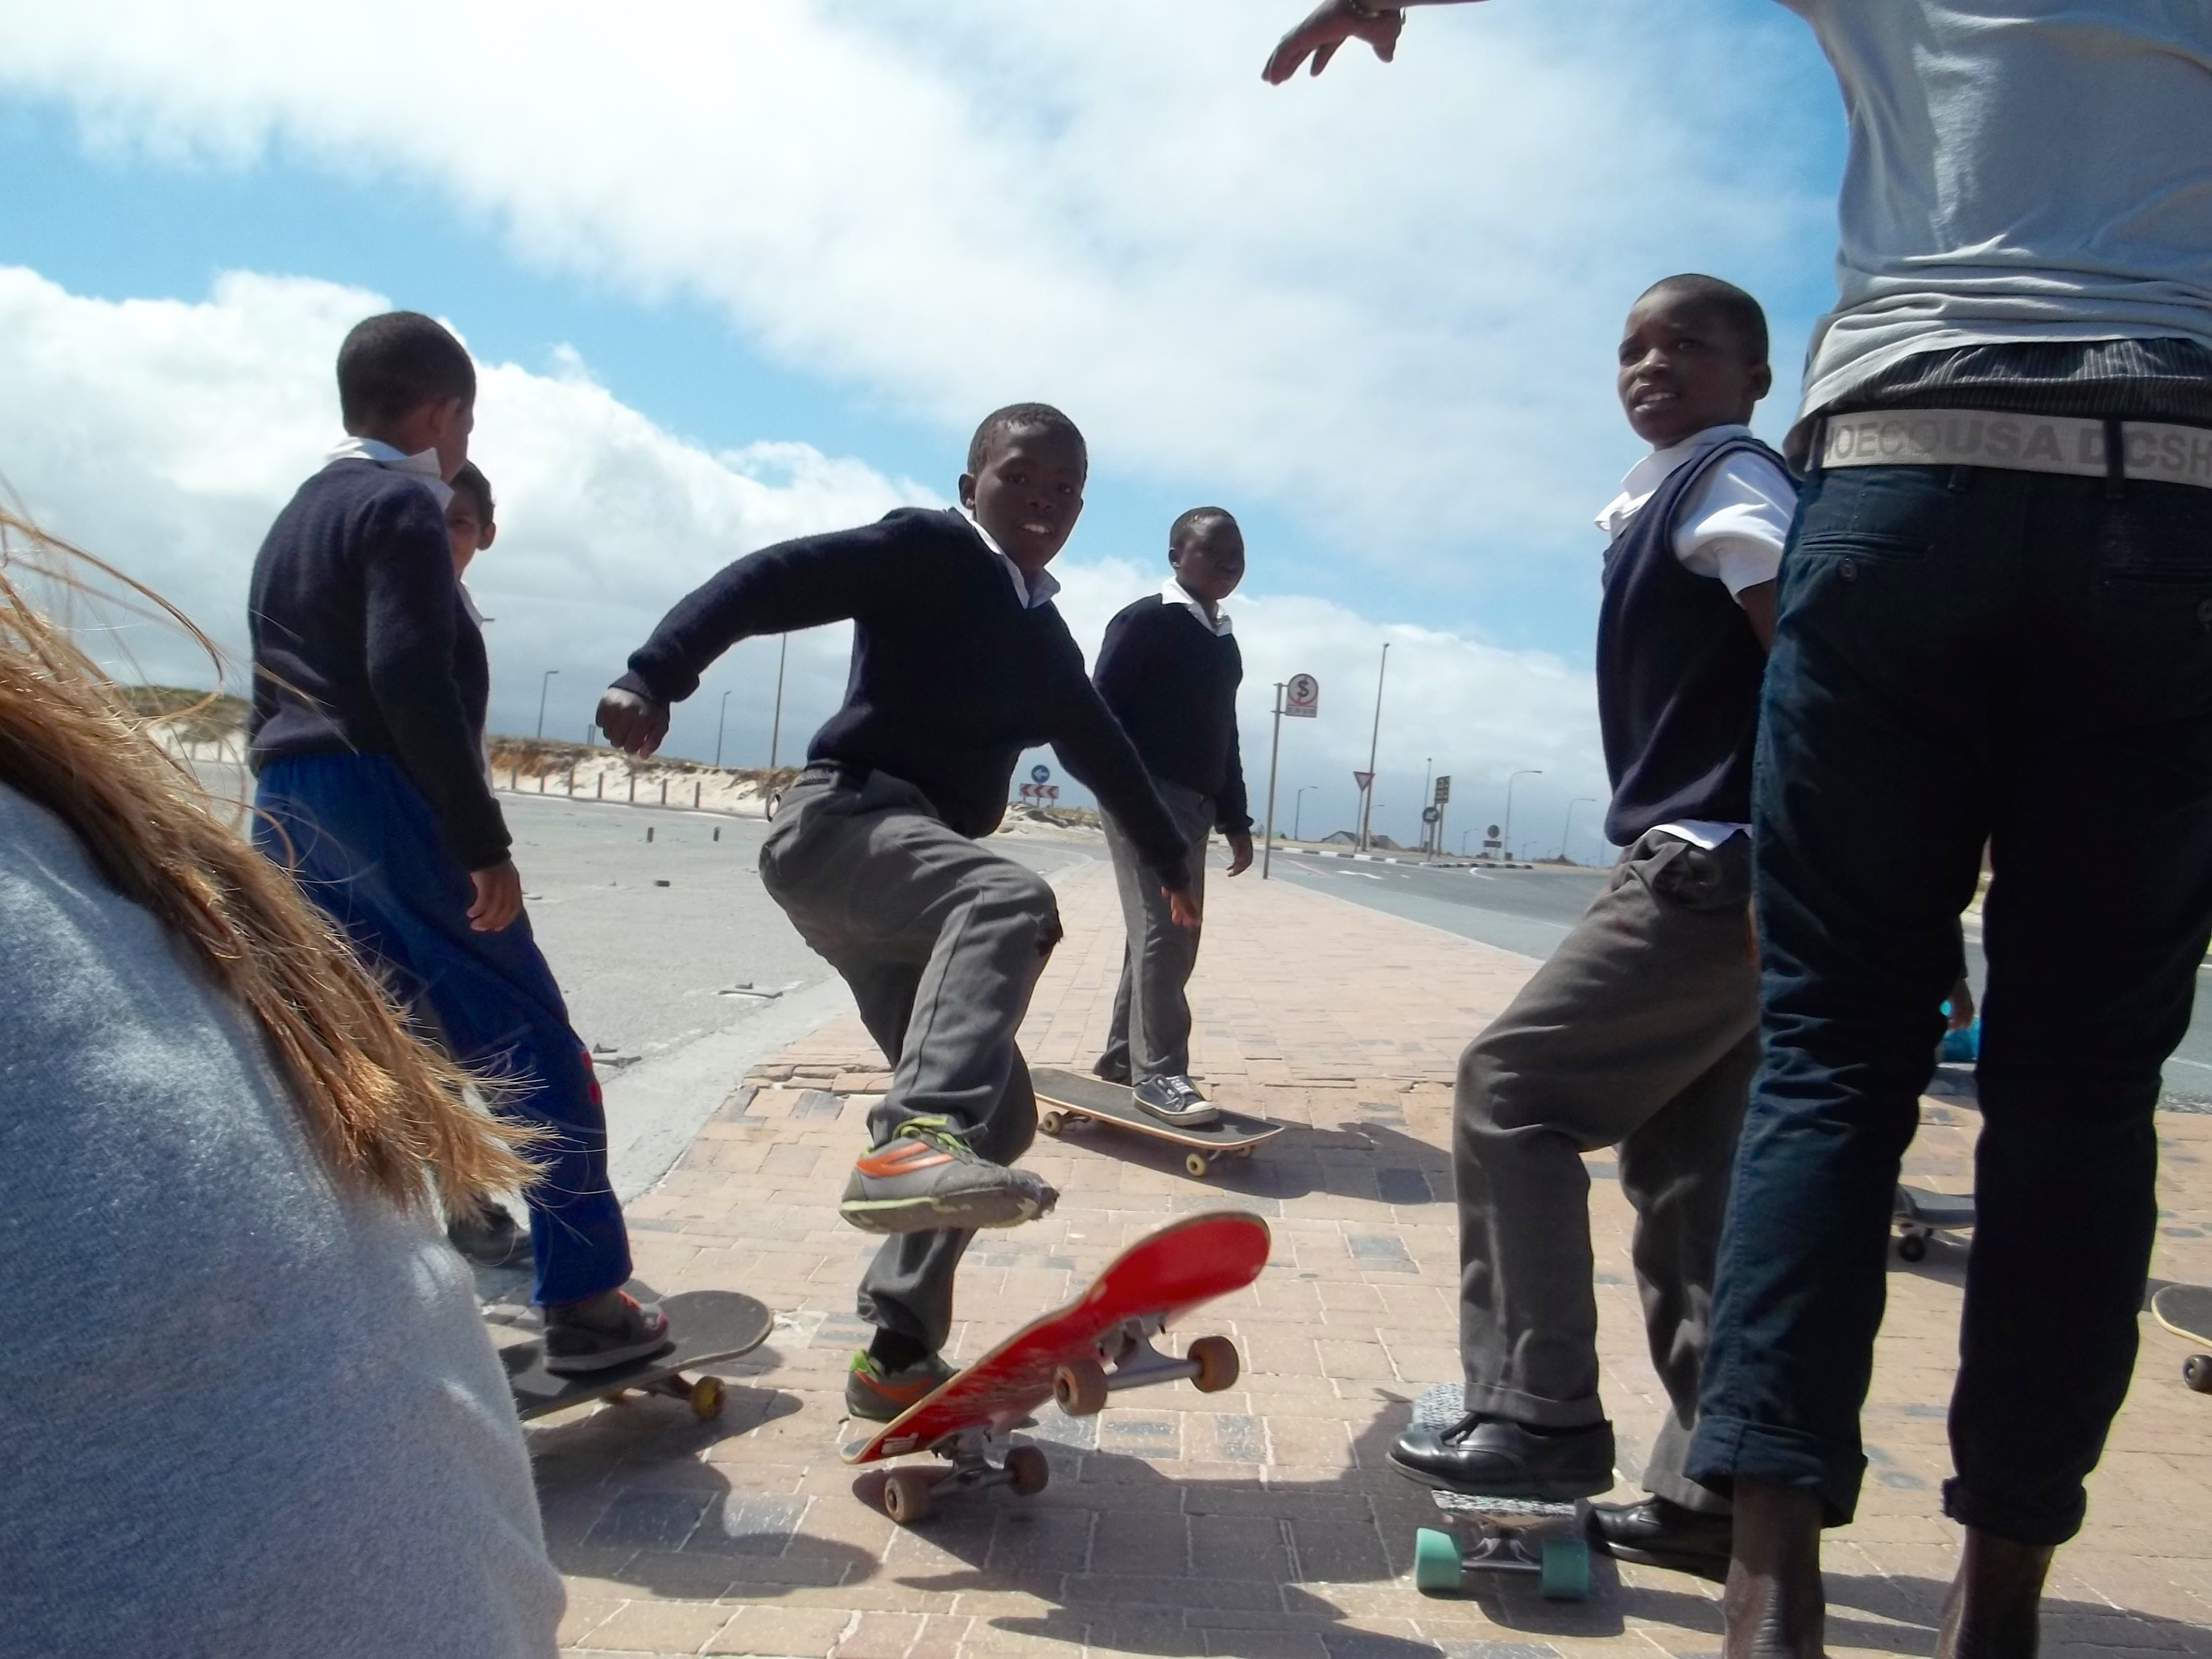face_no_mask: (1618, 271, 1774, 442), (339, 305, 483, 489), (956, 395, 1090, 566), (1167, 494, 1251, 600)
